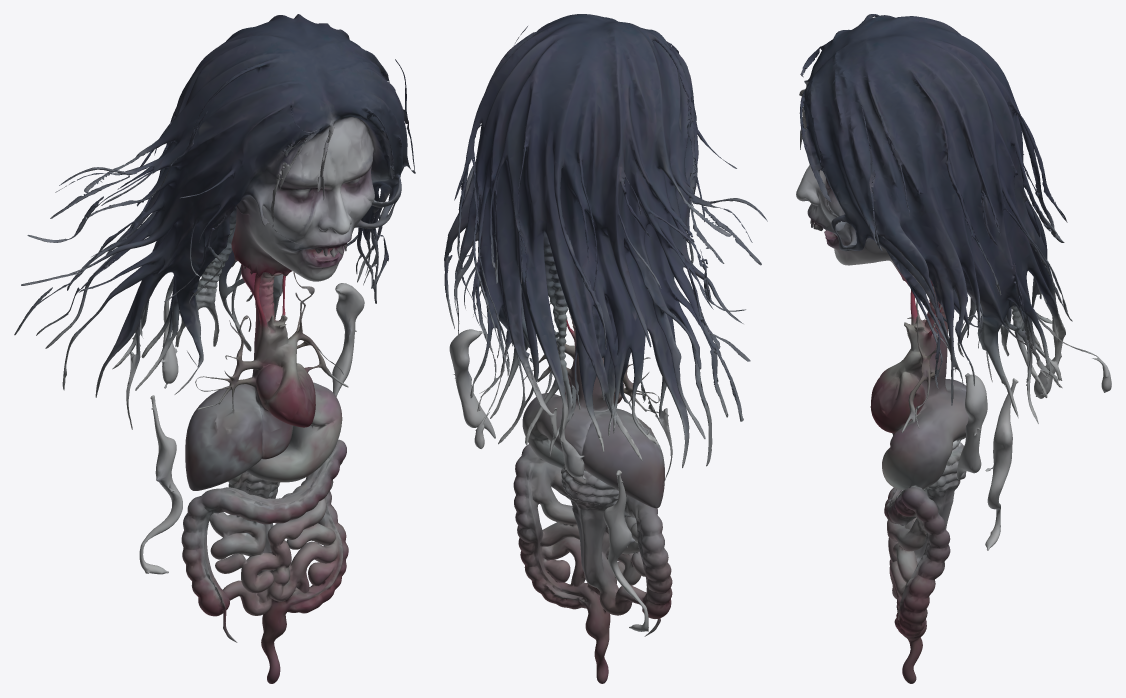
Rendered from ma-lai-rut-ruot.glb.
3 views of the same model, side by side, from view 1: azimuth 30°, elevation 25°; view 2: azimuth 150°, elevation 25°; view 3: azimuth 270°, elevation 25° (orthographic).
Parts seen in each view (by area): view 1: baked; view 2: baked; view 3: baked.
Boxes of the visible parts, box(x1,y1,x2,y2) form: baked: box(14, 14, 415, 683); baked: box(444, 14, 767, 683); baked: box(796, 14, 1111, 683).
Bounding box in the file's own units: 0.5262 × 0.9827 × 0.4244.
